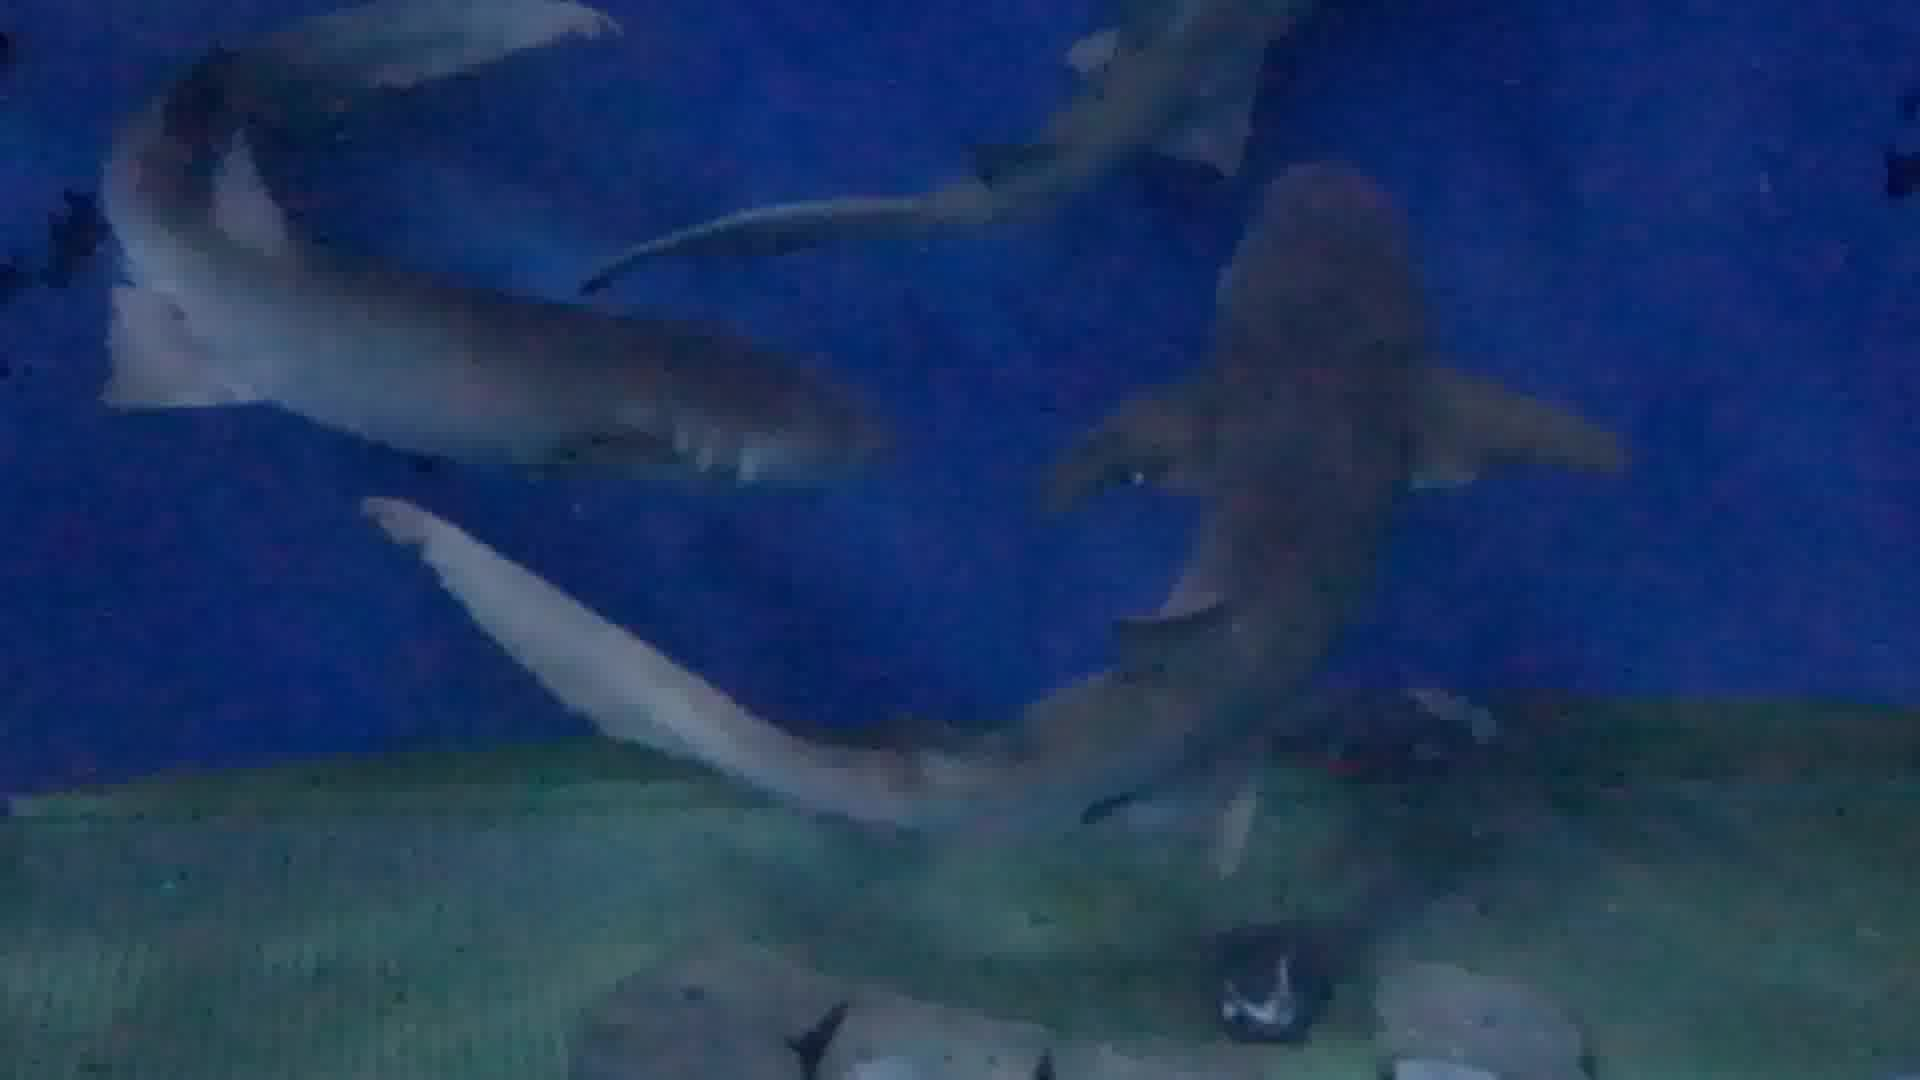Nebrius ferrugineus: (76, 1, 893, 502), (1091, 167, 1473, 798)
